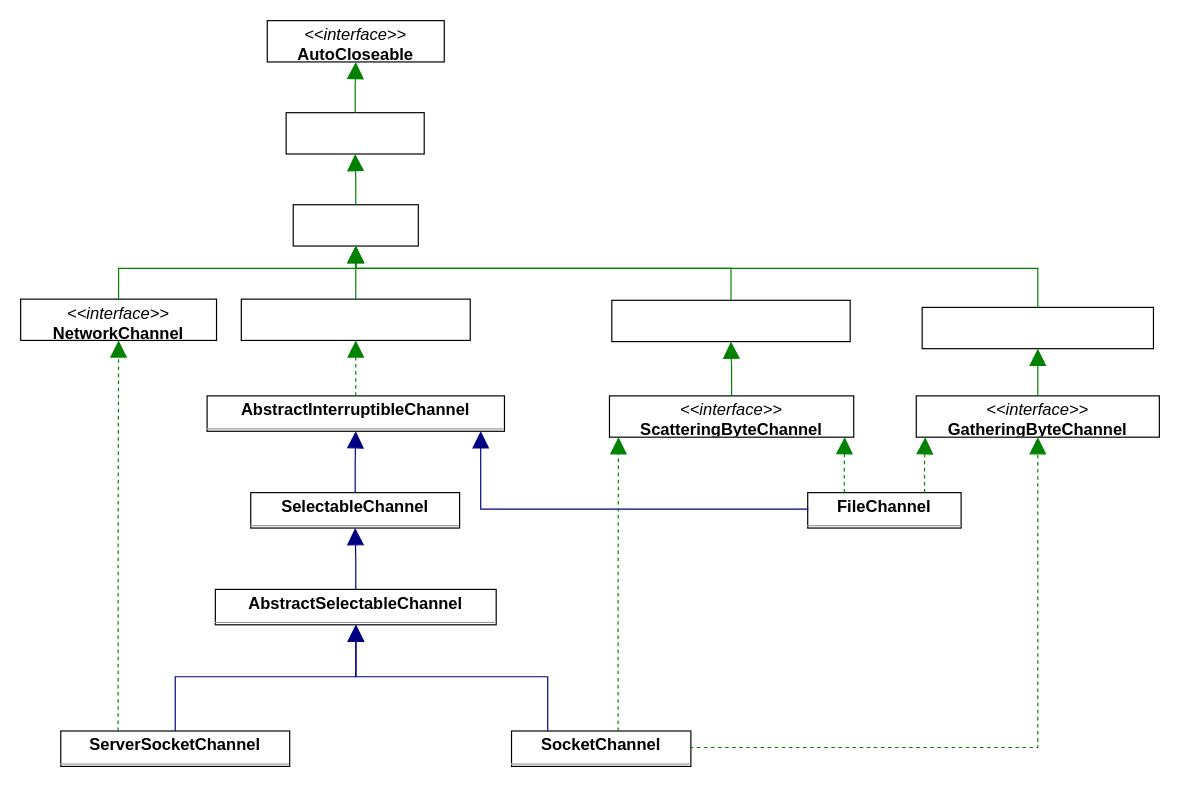
This 1180x787 diagram has some shape labels left out. The shapes that lost their labels are listed below. From the top down, each one's centre as x and y in pixels, then its label:
the point at 354,133: <<interface>> Closeable
the point at 355,225: <<interface>> Channel
the point at 355,319: <<interface>> InterruptibleChannel
the point at 730,320: <<interface>> ReadableByteChannel
the point at 1037,327: <<interface>> WritableByteChannel
